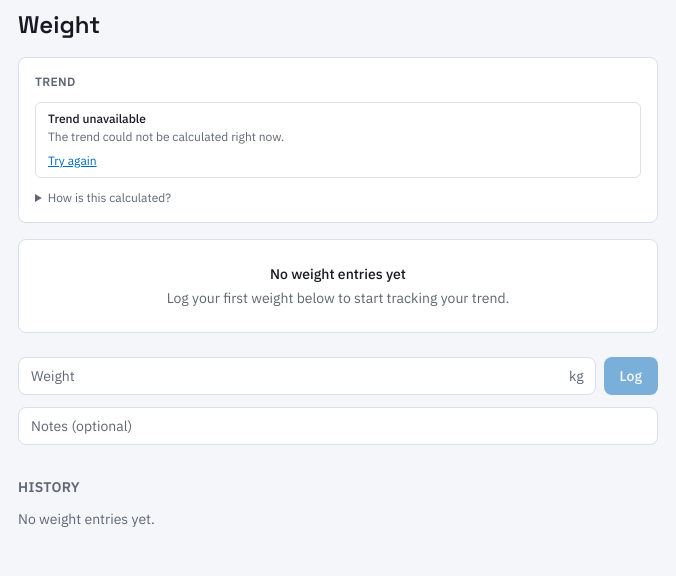
Test: WeightLogPage — log form › shows validation error for weight below 1 kg
Expected: the button "Log" is shown, [604,357,658,395]
Step 1. Type "0.5" into the number field labelled "Weight" → point(307, 376), box [18,357,596,395]
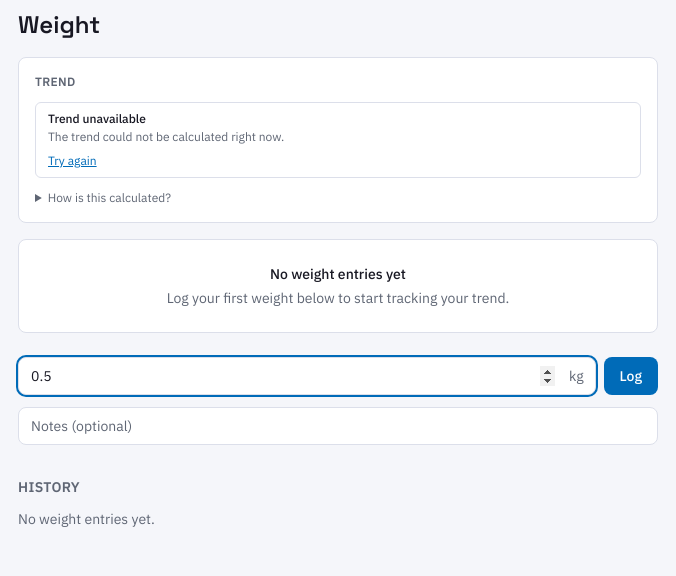
Step 2. Click the button "Log" → point(631, 376), box [604,357,658,395]
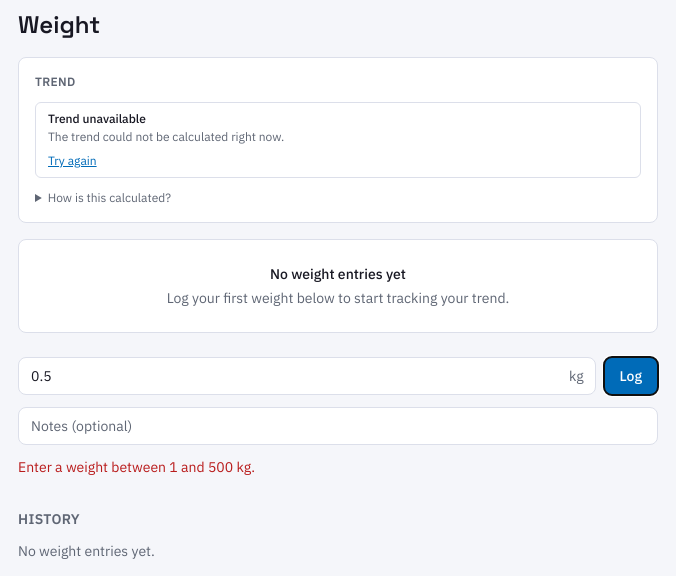
Expected: the text "Enter a weight between 1 and 500 kg." is shown, [18,458,255,476]
